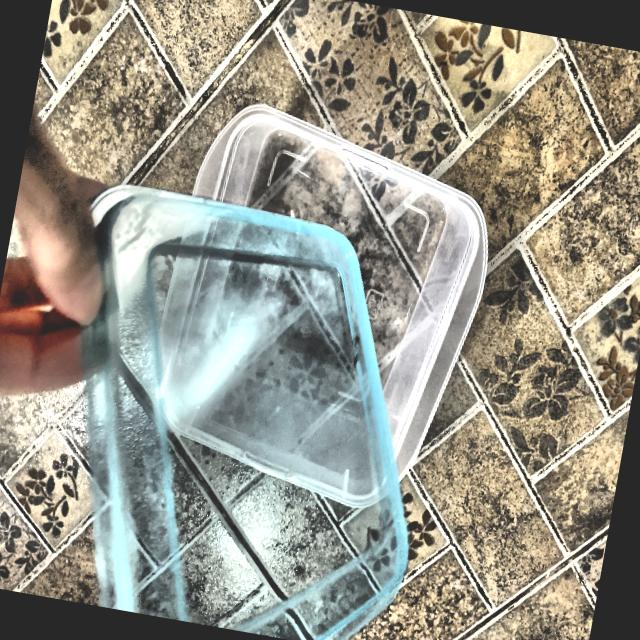plastic container: (74, 78, 514, 541)
